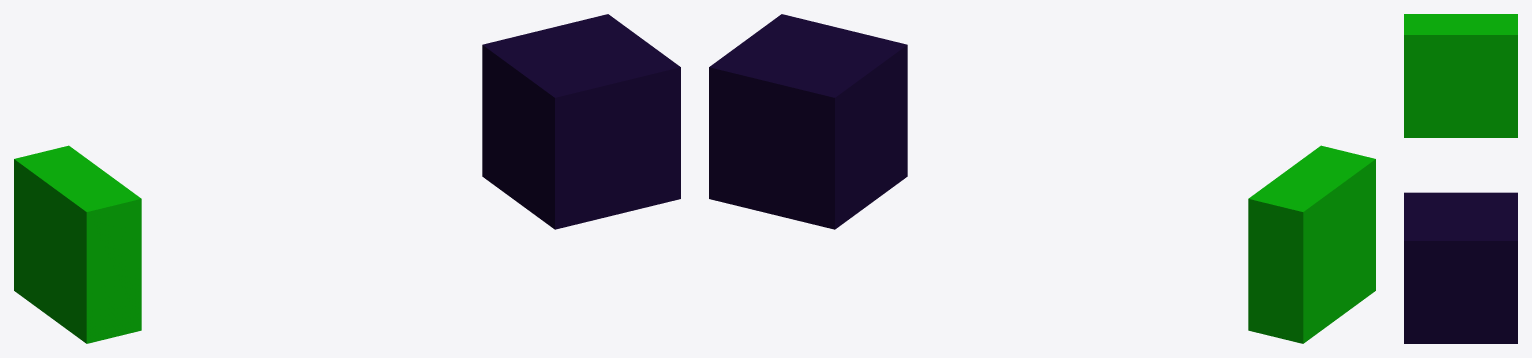
The picture shows the model from 3 angles, left to right: view 1: azimuth 30°, elevation 25°; view 2: azimuth 150°, elevation 25°; view 3: azimuth 270°, elevation 25°; orthographic projection. The views are drawn at different scales.
Parts seen in each view (by area): view 1: Box2, Box1; view 2: Box2, Box1; view 3: Box2, Box1.
Boxes of the visible parts, bbox=[...] form: Box2: bbox=[482, 14, 680, 229]; Box1: bbox=[14, 145, 141, 343]; Box2: bbox=[709, 14, 907, 229]; Box1: bbox=[1248, 145, 1375, 343]; Box2: bbox=[1404, 192, 1517, 343]; Box1: bbox=[1404, 14, 1517, 137].
Size of the model in its own units: 47.18 by 10 by 10.
